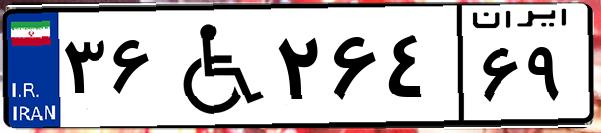2: (270, 28, 330, 110)
3: (57, 26, 110, 100)
4: (385, 28, 445, 110)
6: (330, 28, 385, 110), (475, 38, 525, 113), (110, 28, 158, 98)
9: (525, 38, 570, 115)
ژ (معلولین و جانبازان): (158, 12, 270, 120)
